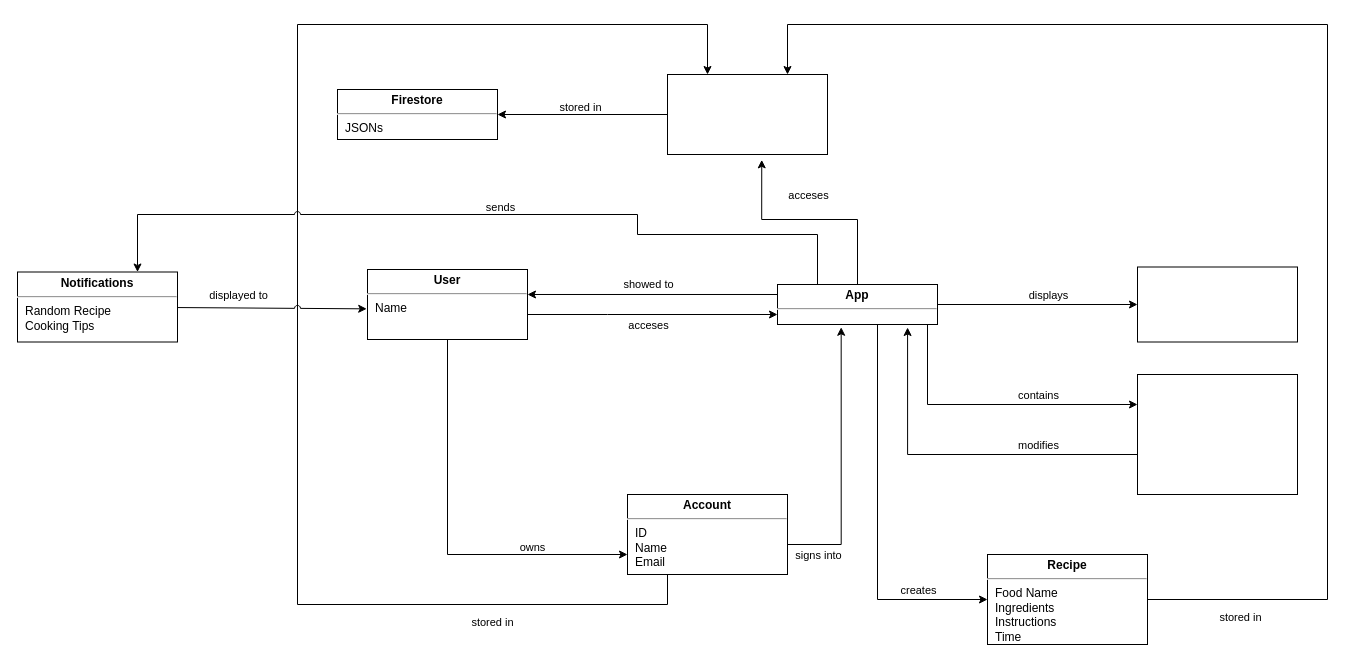
This 1353x662 diagram has some shape labels left out. The shapes that lost their labels are listed below. From the top down, each one's centre as x and y in pixels, then its label:
At [747,114]: "Database Recipes Favorites Local Recipes".
At [1217,304]: "Home Page Search Categories Recipes".
At [1217,434]: "Settings Theme Dark Mode Feedback About Help Terms and Services".
